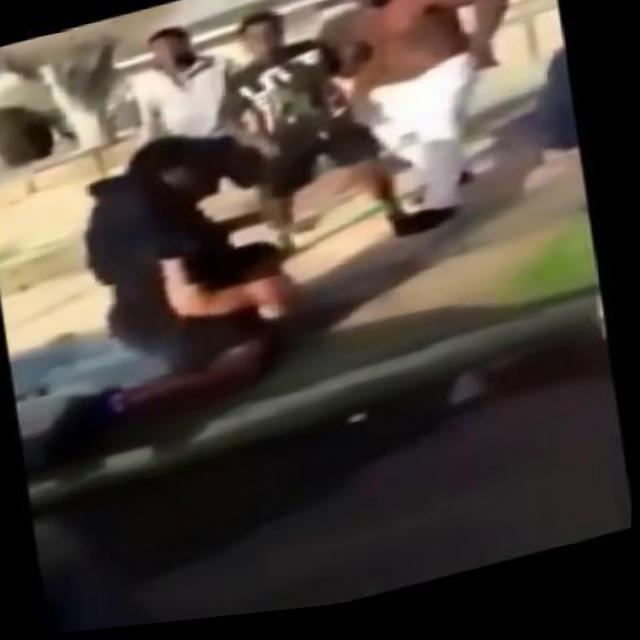fight: (0, 106, 318, 451)
